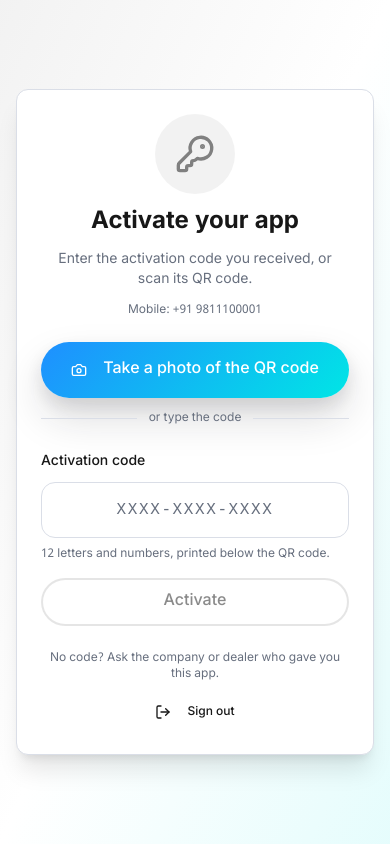
Activate › explains a refusal (some_new_code) and stays on the screen
The width and height of the screenshot is (390, 844).
Expected: the button "Activate" is shown, left=41, top=578, right=349, bottom=626
Type "7K2M-9PQR-4T8X" into the field labelled "Activation code".
click(195, 510); type("7K2M-9PQR-4T8X")  # box left=41, top=482, right=349, bottom=538
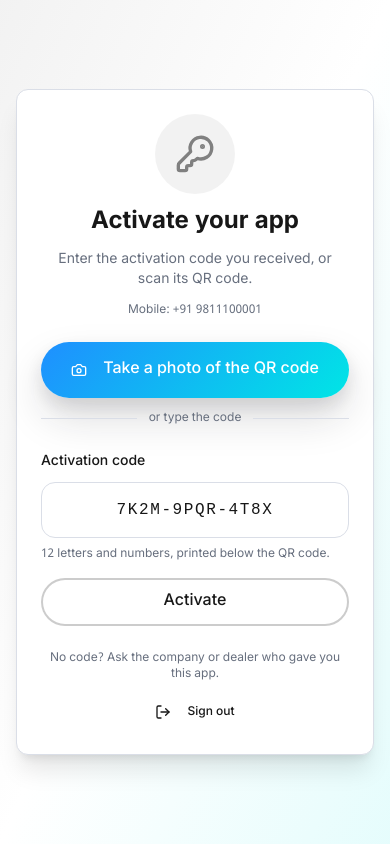
Result: the button "Activate" is enabled
Click the button "Activate".
click(195, 602)  # box left=41, top=578, right=349, bottom=626
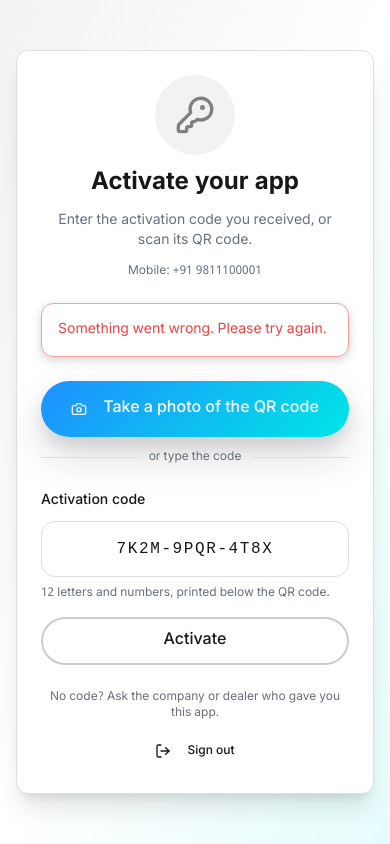
Result: the message reads "Something went wrong. Please try again." at left=58, top=320, right=326, bottom=339
